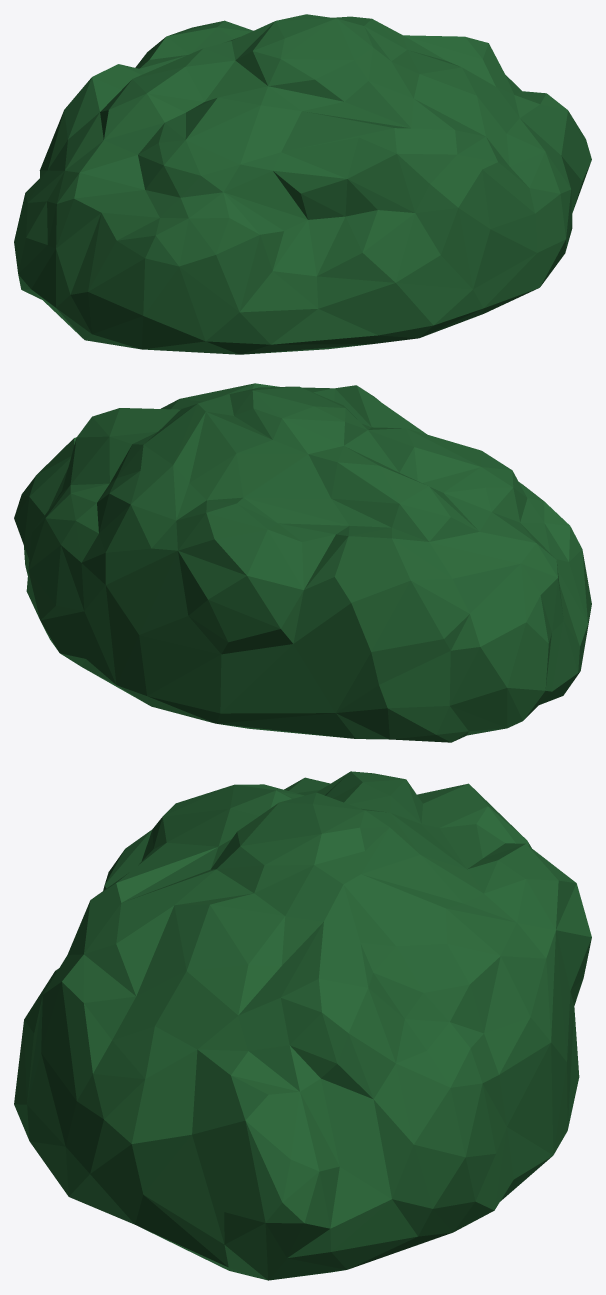
Rendered from delh_foli_07_01.fbx.
3 views of the same model, one above another, from view 1: azimuth 30°, elevation 25°; view 2: azimuth 150°, elevation 25°; view 3: azimuth 270°, elevation 25° (orthographic). The views are drawn at different scales.
Visible parts, largest first — view 1: delh_foli_07_01; view 2: delh_foli_07_01; view 3: delh_foli_07_01.
Boxes of the visible parts, <box> form: delh_foli_07_01: <box>14,14,591,354</box>; delh_foli_07_01: <box>14,383,591,742</box>; delh_foli_07_01: <box>14,771,591,1280</box>.
Size of the model in its own units: 149 by 67.57 by 107.
